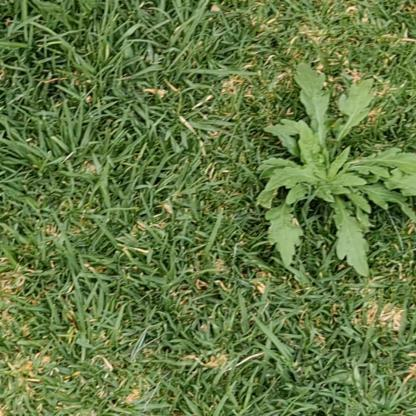Weeds: (255, 62, 415, 278)
